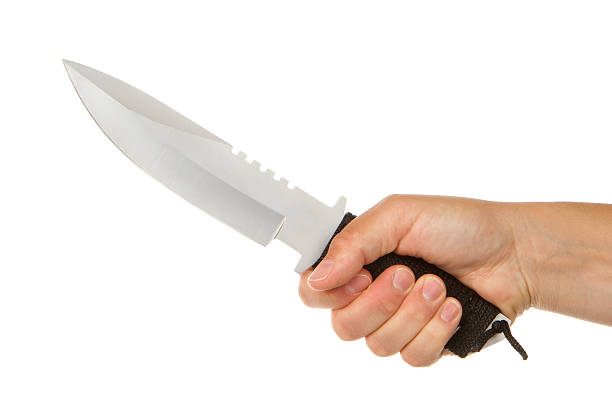knife: (60, 55, 516, 362)
